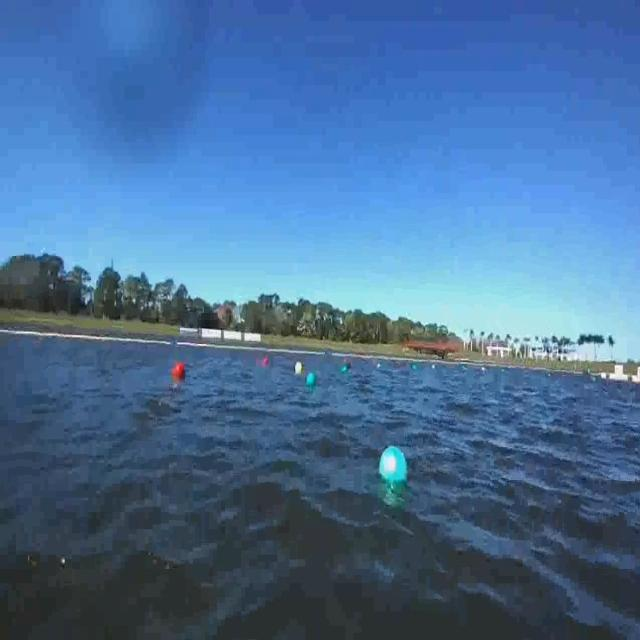green-buoy: (379, 446, 408, 483), (305, 371, 315, 387)
red-buoy: (173, 362, 186, 378), (265, 356, 271, 368)
yellow-buoy: (294, 360, 302, 374)
